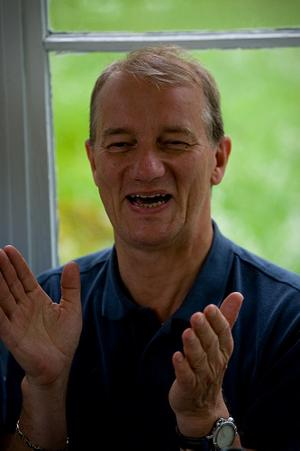person: (2, 50, 300, 451)
